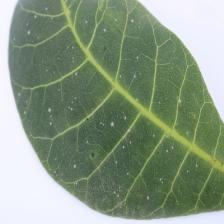red rust: (7, 0, 224, 220)
